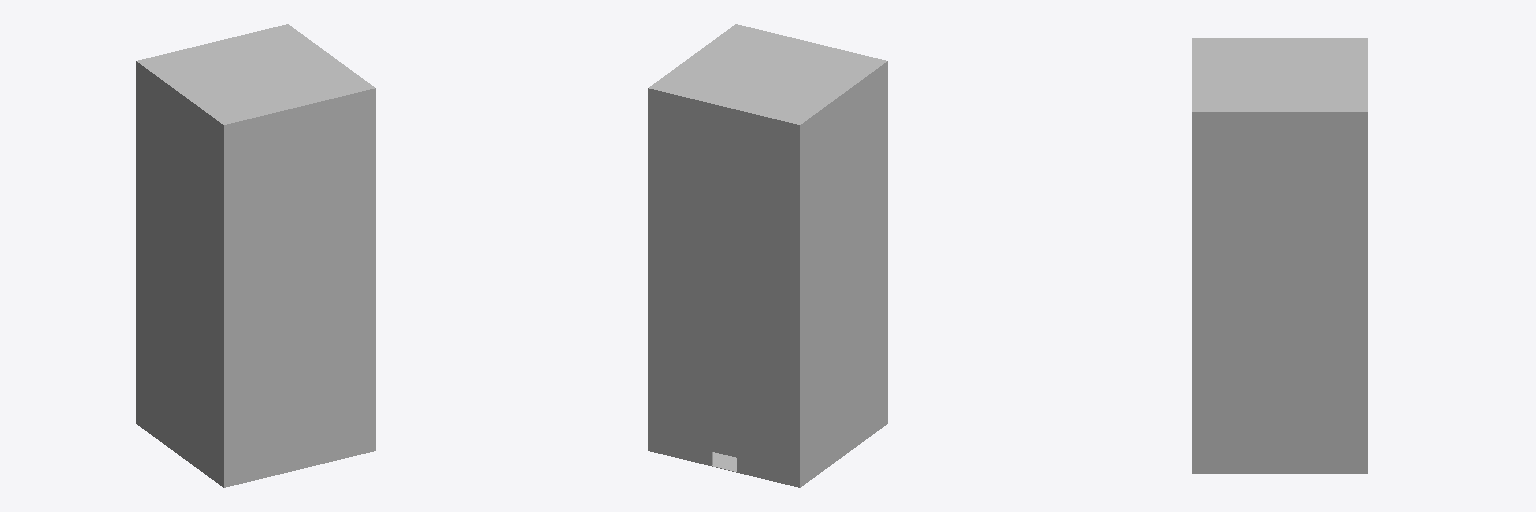
File: Building.obj
3 renders of one model, left to right at view 1: azimuth 30°, elevation 25°; view 2: azimuth 150°, elevation 25°; view 3: azimuth 270°, elevation 25°, orthographic.
Visible parts, largest first — view 1: Building:group9 Building:pasted__group7 Building:pasted__pasted_, Building:group2 Building:pasted__pCube1 Building:polySurface1, Building:group10 Building:pasted__group8 Building:pasted__pasted; view 2: Building:group12 Building:pasted__group12 Building:pasted__paste, Building:group2 Building:pasted__pCube1 Building:polySurface1, Building:group10 Building:pasted__group8 Building:pasted__pasted; view 3: Building:group6 Building:pasted__group2 Building:pasted__pasted_, Building:group10 Building:pasted__group8 Building:pasted__pasted, Building:group9 Building:pasted__group7 Building:pasted__pasted_.
Boxes of the visible parts, x1=… form: Building:group9 Building:pasted__group7 Building:pasted__pasted_: x1=223, y1=88, x2=375, y2=487; Building:group2 Building:pasted__pCube1 Building:polySurface1: x1=137, y1=61, x2=224, y2=486; Building:group10 Building:pasted__group8 Building:pasted__pasted: x1=139, y1=25, x2=372, y2=123; Building:group12 Building:pasted__group12 Building:pasted__paste: x1=648, y1=88, x2=800, y2=487; Building:group2 Building:pasted__pCube1 Building:polySurface1: x1=799, y1=61, x2=886, y2=486; Building:group10 Building:pasted__group8 Building:pasted__pasted: x1=650, y1=25, x2=884, y2=123; Building:group6 Building:pasted__group2 Building:pasted__pasted_: x1=1193, y1=111, x2=1366, y2=473; Building:group10 Building:pasted__group8 Building:pasted__pasted: x1=1194, y1=38, x2=1366, y2=110; Building:group9 Building:pasted__group7 Building:pasted__pasted_: x1=1192, y1=38, x2=1193, y2=473.
Bounding box in the file's own units: 109 × 249 × 109.